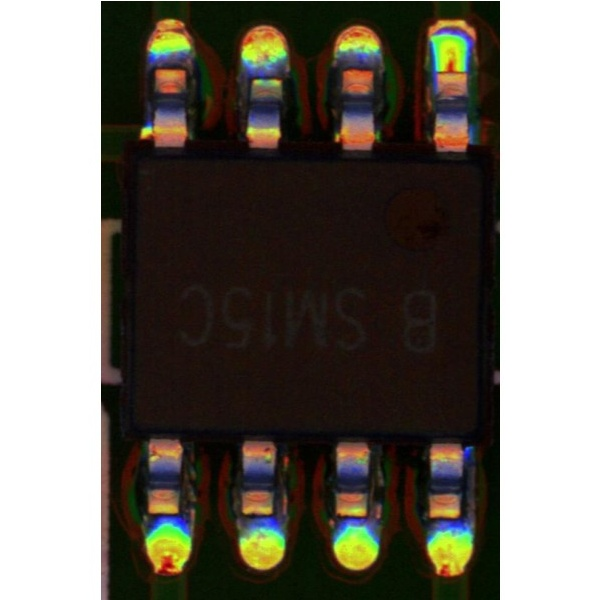Bad_podu: (437, 58, 463, 80)
